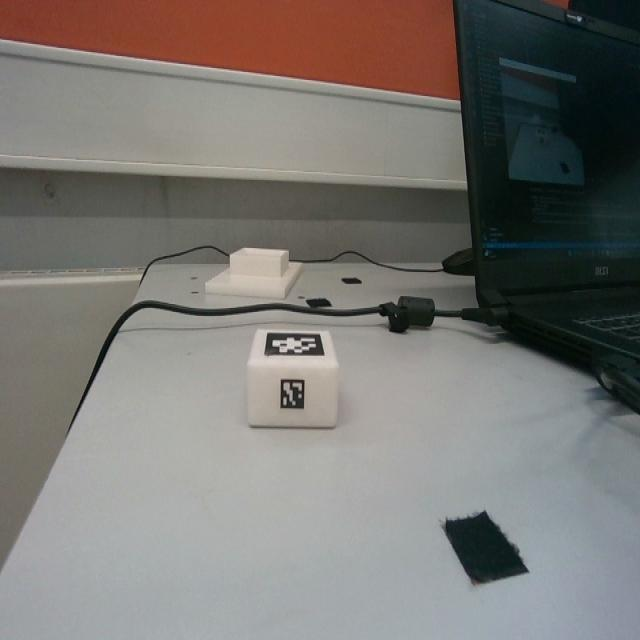Cube: (246, 329, 338, 428)
